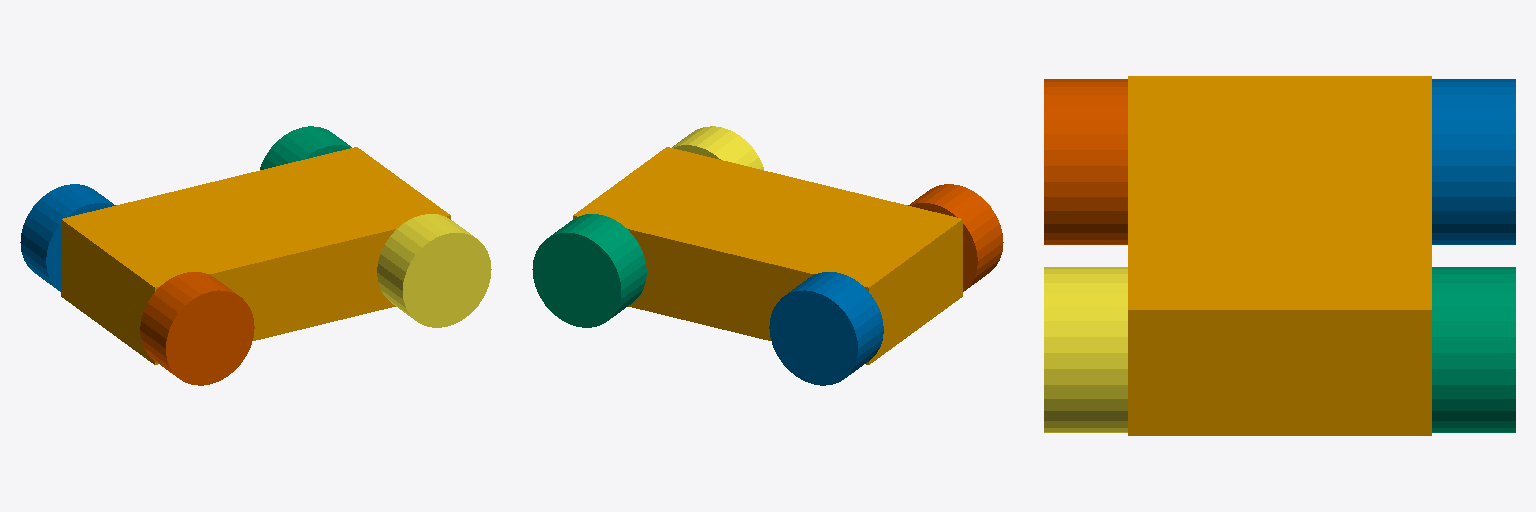
The robot description file, URDF, robot "my_robot":
<?xml version="1.0" encoding="utf-8"?>
<!-- =================================================================================== -->
<!-- |    This document was autogenerated by xacro from 02-description.xacro           | -->
<!-- |    EDITING THIS FILE BY HAND IS NOT RECOMMENDED                                 | -->
<!-- =================================================================================== -->
<robot name="my_robot">
  <!--SECTION PRINCIPALE-->
  <link name="base_link">
    <visual>
      <geometry>
        <box size="1.0 0.55 0.25"/>
      </geometry>
    </visual>
    <collision>
      <geometry>
        <box size="1.0 0.55 0.25"/>
      </geometry>
    </collision>
  </link>
  <!--intertial link indispensable car base_link ne peut pas porter de masse et d'inertie-->
  <link name="inertial_link">
    <inertial>
      <mass value="10"/>
      <inertia ixx="1.21666666667" ixy="1.375" ixz="0.625" iyy="3.54166666667" iyz="0.34375" izz="4.34166666667"/>
    </inertial>
  </link>
  <joint name="inertial_joint" type="fixed">
    <parent link="base_link"/>
    <child link="inertial_link"/>
  </joint>
  <link name="fl_wheel">
    <visual>
      <origin rpy="1.57079632679 0.0 0.0" xyz=" 0.0 0.075 0.0"/>
      <geometry>
        <cylinder length="0.15" radius="0.15"/>
      </geometry>
    </visual>
    <inertial>
      <mass value="1"/>
      <inertia ixx="0.0075" ixy="0.0" ixz="0.0" iyy="0.0075" iyz="0.0" izz="0.01125"/>
    </inertial>
    <collision>
      <origin rpy="1.57079632679 0.0 0.0" xyz=" 0.0 0.075 0.0"/>
      <geometry>
        <cylinder length="0.15" radius="0.15"/>
      </geometry>
    </collision>
  </link>
  <joint name="fl_wheel_joint" type="continuous">
    <origin xyz="0.4 0.275 0.0"/>
    <parent link="base_link"/>
    <child link="fl_wheel"/>
    <axis xyz="0.0 1.0 0.0"/>
  </joint>
  <link name="fr_wheel">
    <visual>
      <origin rpy="1.57079632679 0.0 0.0" xyz=" 0.0 -0.075 0.0"/>
      <geometry>
        <cylinder length="0.15" radius="0.15"/>
      </geometry>
    </visual>
    <inertial>
      <mass value="1"/>
      <inertia ixx="0.0075" ixy="0.0" ixz="0.0" iyy="0.0075" iyz="0.0" izz="0.01125"/>
    </inertial>
    <collision>
      <origin rpy="1.57079632679 0.0 0.0" xyz=" 0.0 -0.075 0.0"/>
      <geometry>
        <cylinder length="0.15" radius="0.15"/>
      </geometry>
    </collision>
  </link>
  <joint name="fr_wheel_joint" type="continuous">
    <origin xyz="0.4 -0.275 0.0"/>
    <parent link="base_link"/>
    <child link="fr_wheel"/>
    <axis xyz="0.0 1.0 0.0"/>
  </joint>
  <link name="rl_wheel">
    <visual>
      <origin rpy="1.57079632679 0.0 0.0" xyz=" 0.0 0.075 0.0"/>
      <geometry>
        <cylinder length="0.15" radius="0.15"/>
      </geometry>
    </visual>
    <inertial>
      <mass value="1"/>
      <inertia ixx="0.0075" ixy="0.0" ixz="0.0" iyy="0.0075" iyz="0.0" izz="0.01125"/>
    </inertial>
    <collision>
      <origin rpy="1.57079632679 0.0 0.0" xyz=" 0.0 0.075 0.0"/>
      <geometry>
        <cylinder length="0.15" radius="0.15"/>
      </geometry>
    </collision>
  </link>
  <joint name="rl_wheel_joint" type="continuous">
    <origin xyz="-0.4 0.275 0.0"/>
    <parent link="base_link"/>
    <child link="rl_wheel"/>
    <axis xyz="0.0 1.0 0.0"/>
  </joint>
  <link name="rr_wheel">
    <visual>
      <origin rpy="1.57079632679 0.0 0.0" xyz=" 0.0 -0.075 0.0"/>
      <geometry>
        <cylinder length="0.15" radius="0.15"/>
      </geometry>
    </visual>
    <inertial>
      <mass value="1"/>
      <inertia ixx="0.0075" ixy="0.0" ixz="0.0" iyy="0.0075" iyz="0.0" izz="0.01125"/>
    </inertial>
    <collision>
      <origin rpy="1.57079632679 0.0 0.0" xyz=" 0.0 -0.075 0.0"/>
      <geometry>
        <cylinder length="0.15" radius="0.15"/>
      </geometry>
    </collision>
  </link>
  <joint name="rr_wheel_joint" type="continuous">
    <origin xyz="-0.4 -0.275 0.0"/>
    <parent link="base_link"/>
    <child link="rr_wheel"/>
    <axis xyz="0.0 1.0 0.0"/>
  </joint>
</robot>


--- What the picture shows (computed from the rendered views, not written in the file) ---
Views: 3 orthographic renders of the robot side by side, from view 1: azimuth 30°, elevation 25°; view 2: azimuth 150°, elevation 25°; view 3: azimuth 270°, elevation 25°.
Model my_robot with 6 links and 5 joints (4 continuous, 1 fixed), rooted at base_link, posed every joint at zero.
Links seen in each view (by area): view 1: base_link, rr_wheel, fr_wheel, rl_wheel, fl_wheel; view 2: base_link, rl_wheel, fl_wheel, rr_wheel, fr_wheel; view 3: base_link, fl_wheel, fr_wheel, rl_wheel, rr_wheel.
Boxes of the visible links, x1,y1,x2,y2 form: base_link: [61, 147, 450, 364]; rr_wheel: [140, 272, 254, 385]; fr_wheel: [377, 214, 491, 327]; rl_wheel: [20, 184, 115, 291]; fl_wheel: [260, 126, 351, 169]; base_link: [573, 147, 962, 364]; rl_wheel: [769, 272, 883, 385]; fl_wheel: [532, 214, 646, 327]; rr_wheel: [908, 184, 1003, 291]; fr_wheel: [672, 126, 763, 169]; base_link: [1128, 76, 1431, 435]; fl_wheel: [1432, 267, 1515, 432]; fr_wheel: [1044, 267, 1127, 432]; rl_wheel: [1432, 79, 1515, 244]; rr_wheel: [1044, 79, 1127, 244].
Bounding box of the posed robot: 1.1 × 0.85 × 0.3 m (x, y, z).
Geometry: primitives only (box / cylinder / sphere), no mesh files.